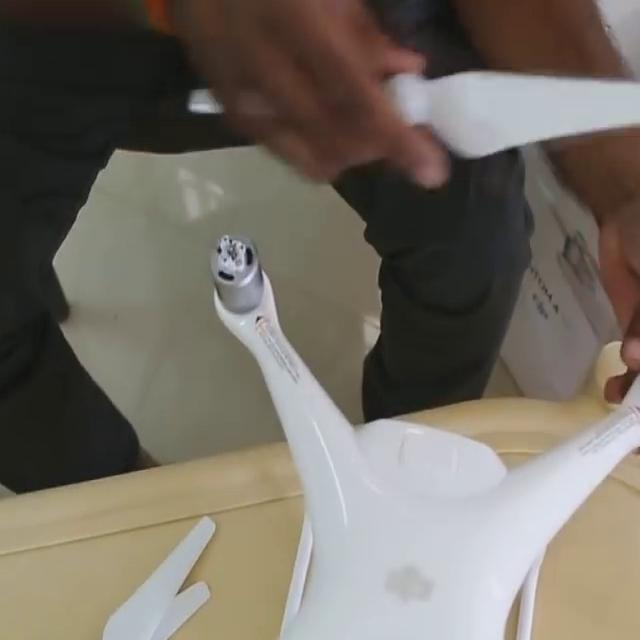drone: (50, 233, 640, 640)
